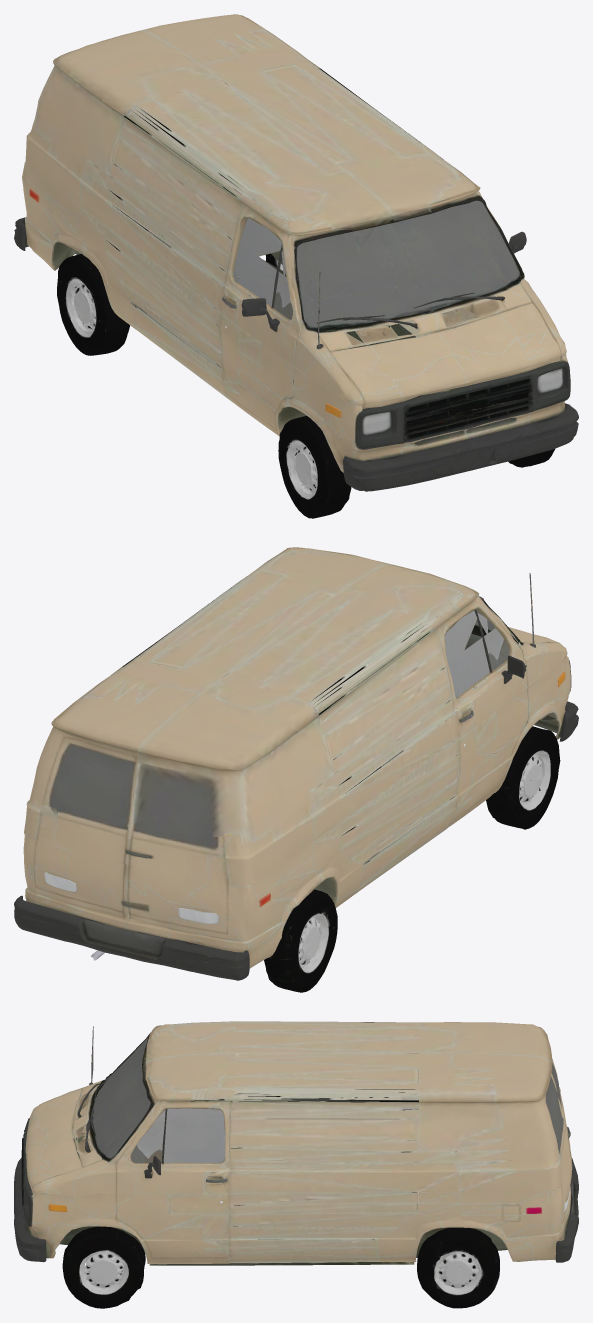
Rendered from van-v3.glb.
3 views of the same model, one above another, from view 1: azimuth 30°, elevation 25°; view 2: azimuth 150°, elevation 25°; view 3: azimuth 270°, elevation 25° (orthographic). The views are drawn at different scales.
Visible parts, largest first — view 1: body, wheel_fl_mesh, wheel_rl_mesh; view 2: body, wheel_rl_mesh, wheel_fl_mesh; view 3: body, wheel_rr_mesh, wheel_fr_mesh.
Part boxes in pixels (bbox=[...]): body: bbox=[14, 14, 578, 491]; wheel_fl_mesh: bbox=[278, 415, 351, 518]; wheel_rl_mesh: bbox=[57, 254, 129, 355]; body: bbox=[14, 547, 578, 980]; wheel_rl_mesh: bbox=[264, 889, 337, 992]; wheel_fl_mesh: bbox=[486, 726, 560, 829]; body: bbox=[14, 1021, 578, 1265]; wheel_rr_mesh: bbox=[417, 1227, 499, 1308]; wheel_fr_mesh: bbox=[62, 1226, 145, 1308].
Size of the model in its own units: 0.4438 by 0.3926 by 0.9507.
1 material, 1 textured.
